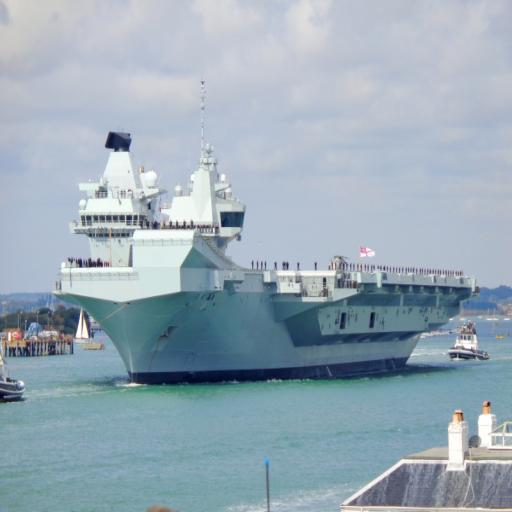Portanaves: (56, 69, 477, 389)
